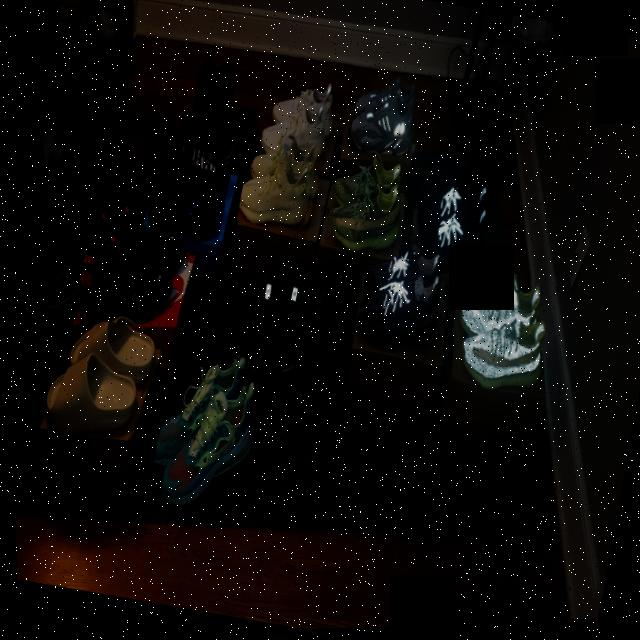shoe: (67, 195, 197, 338), (152, 374, 264, 519), (442, 267, 558, 404), (147, 342, 248, 479), (136, 143, 234, 250), (233, 129, 326, 237), (349, 265, 450, 363), (172, 248, 244, 373), (189, 262, 265, 373), (254, 74, 341, 168), (318, 176, 405, 265), (233, 256, 288, 382), (151, 132, 238, 209), (261, 258, 314, 382), (287, 266, 339, 390), (360, 236, 443, 312), (198, 60, 253, 171), (327, 147, 407, 223), (313, 272, 364, 391), (178, 53, 228, 162), (345, 87, 418, 161), (351, 72, 420, 131)
